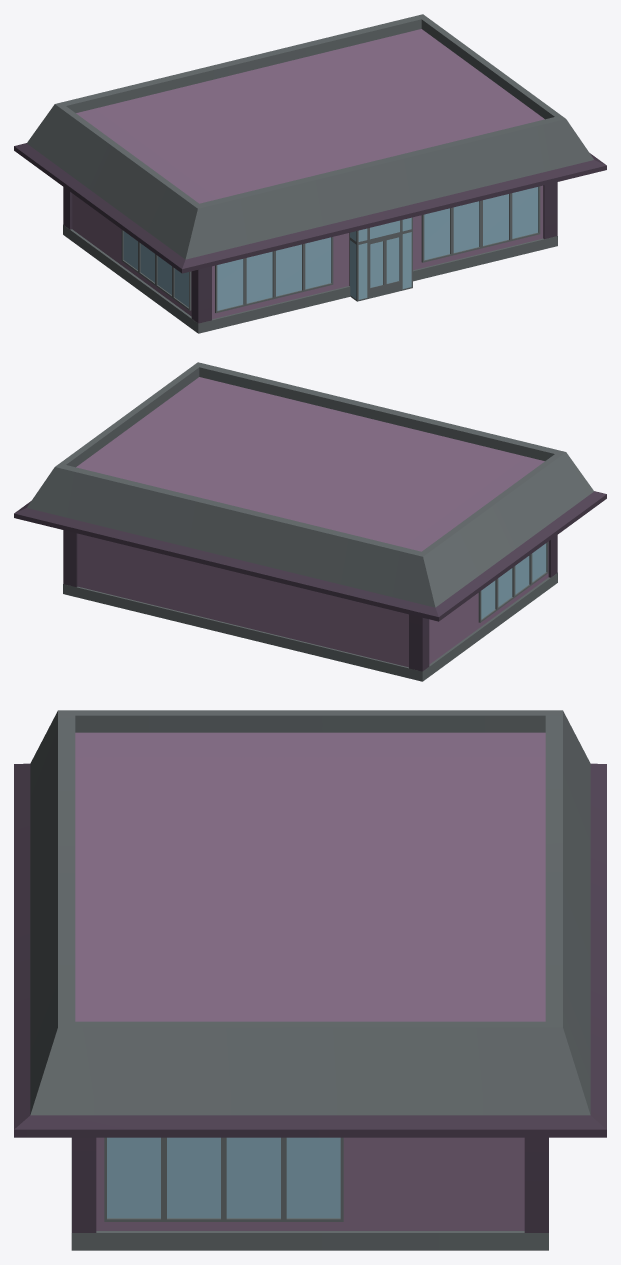
The model's file is Env_CommercialBuilding_01.fbx.
3 views of the same model, one above another, from view 1: azimuth 30°, elevation 25°; view 2: azimuth 150°, elevation 25°; view 3: azimuth 270°, elevation 25° (orthographic). The views are drawn at different scales.
Visible parts, largest first — view 1: Env_CommercialBuilding_01; view 2: Env_CommercialBuilding_01; view 3: Env_CommercialBuilding_01.
Boxes of the visible parts, x1,y1,x2,y2 form: Env_CommercialBuilding_01: (14,14,606,333); Env_CommercialBuilding_01: (14,362,606,681); Env_CommercialBuilding_01: (14,710,606,1250).
Size of the model in its own units: 1993 by 578 by 1366.
1 material, 1 textured.
